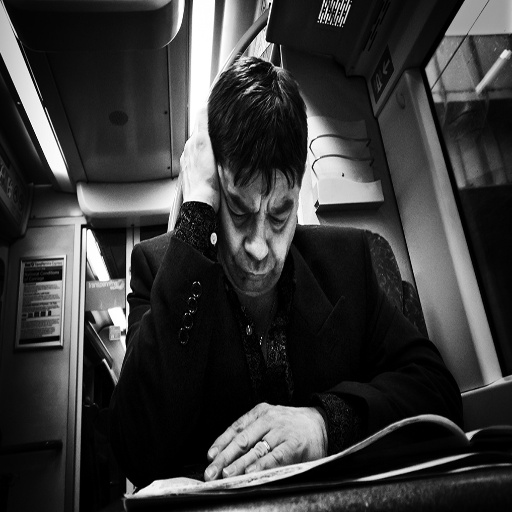hand: (209, 404, 332, 476), (176, 96, 221, 211)
